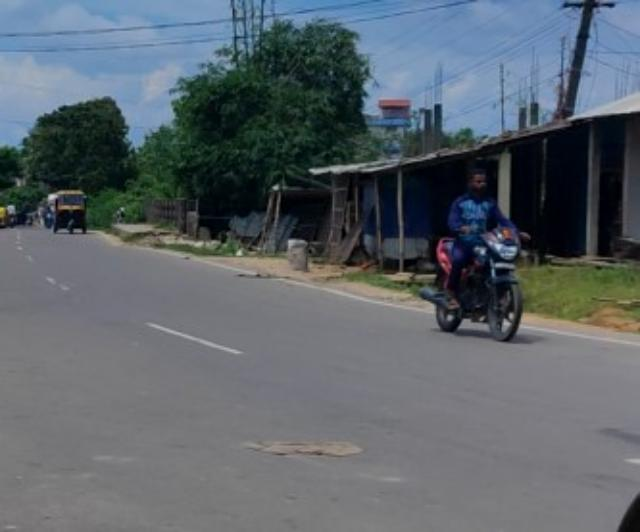licensePlate: (497, 258, 519, 271)
motorcycle: (438, 166, 528, 345)
withoutHelmet: (468, 165, 491, 194)
